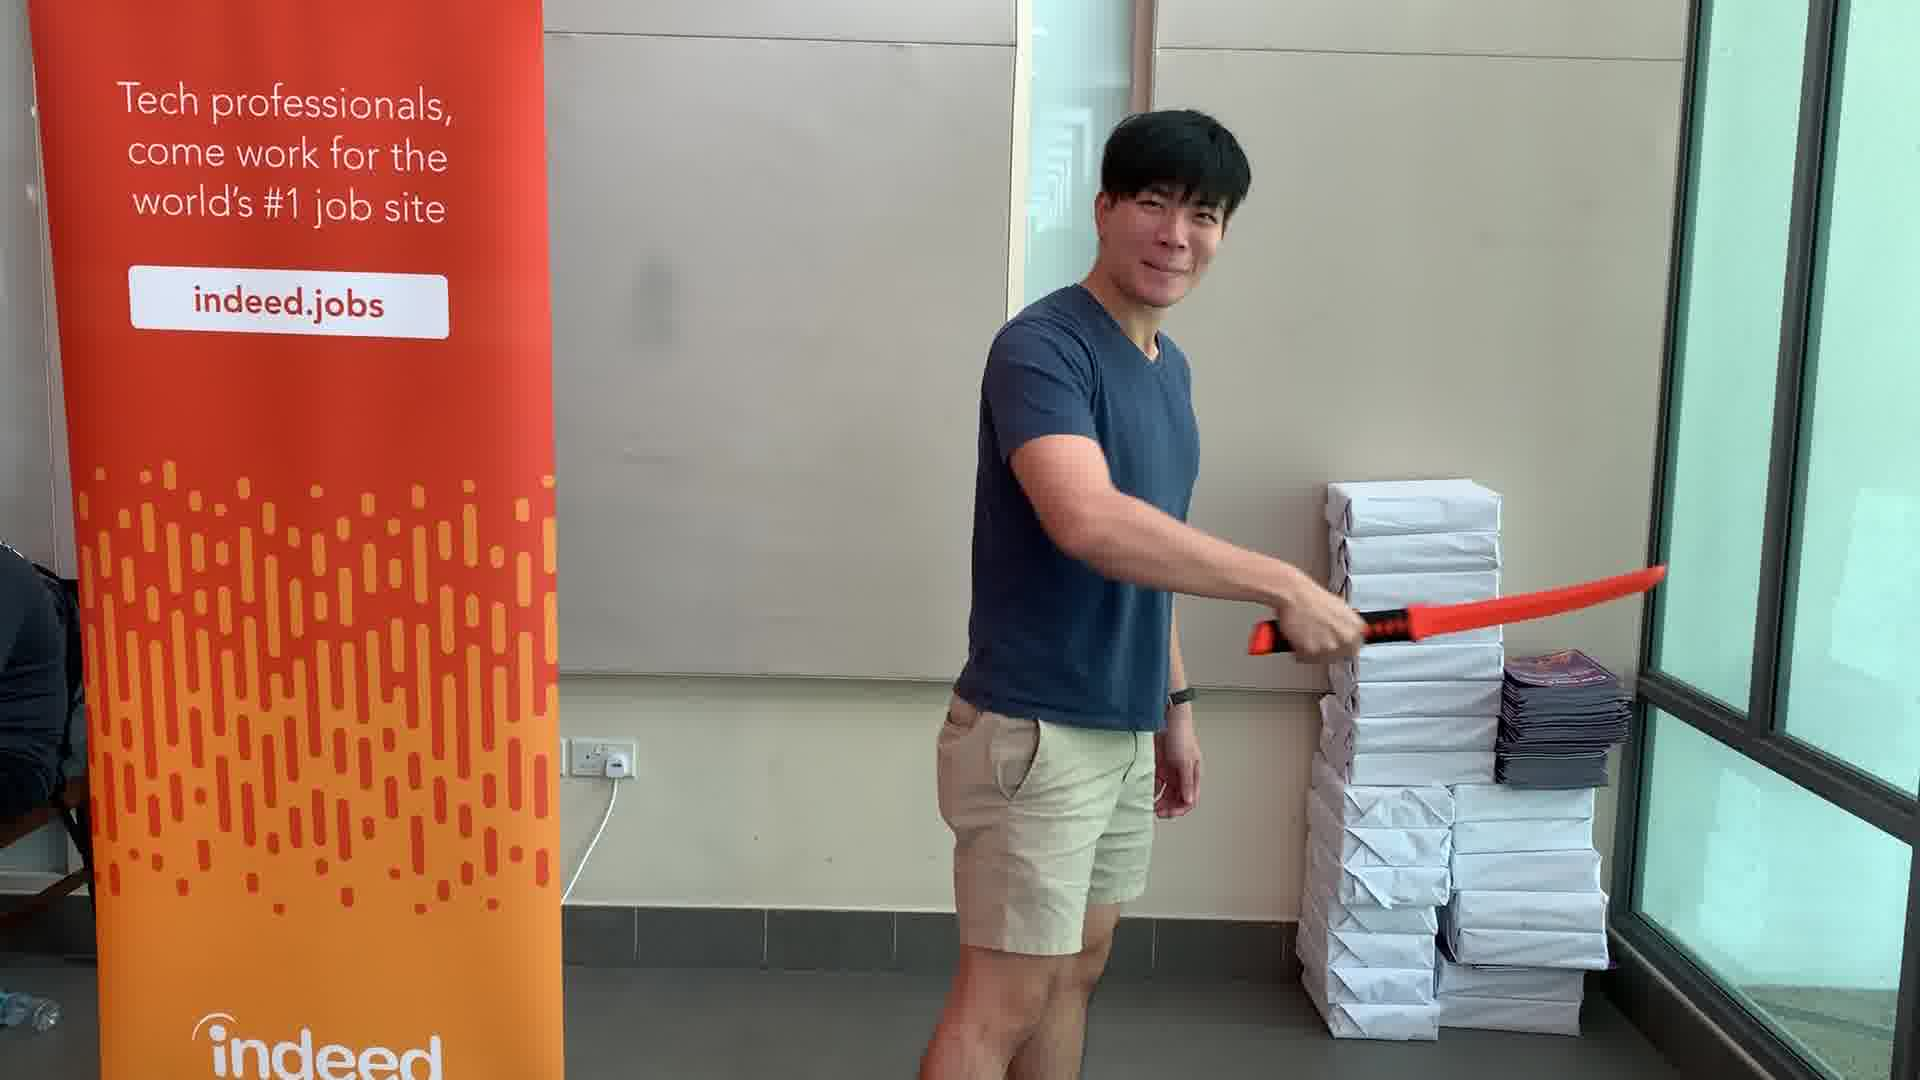knife: (1242, 553, 1675, 670)
